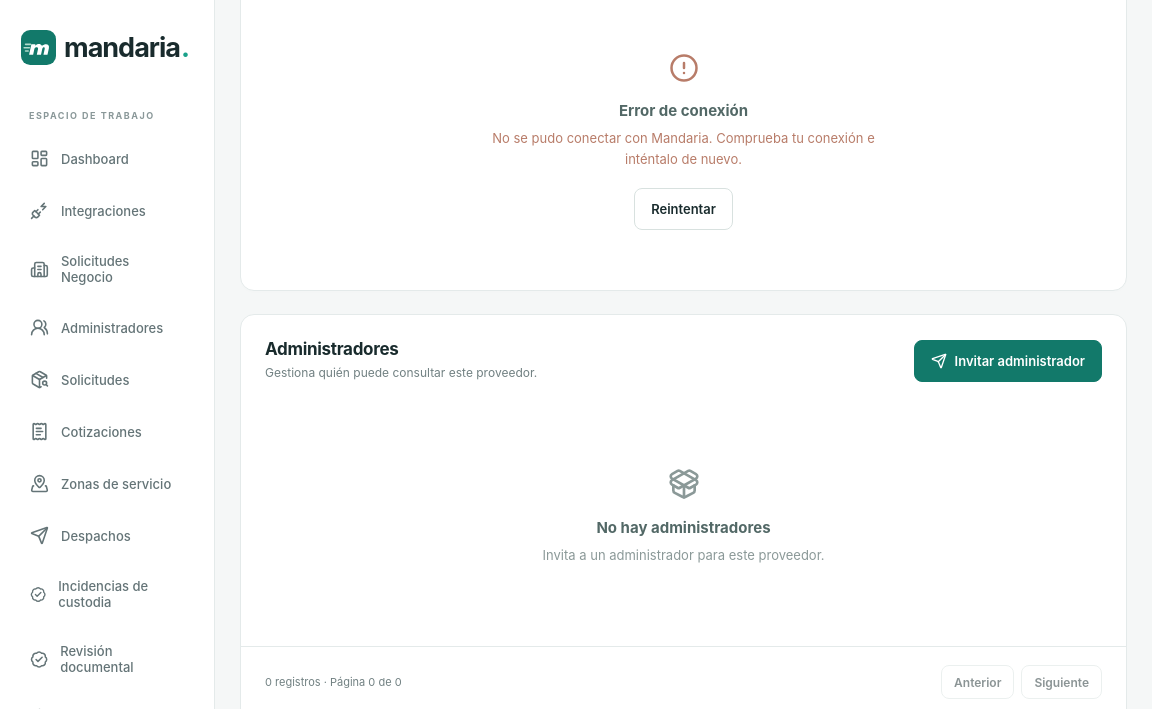
Test: SUPER_ADMIN accounts and admin invitations › shows a clear invite error for USER_DISABLED (409)
(page scrolled)
Click the button "Invitar administrador" at point(1008, 361), box [914,340,1102,382]
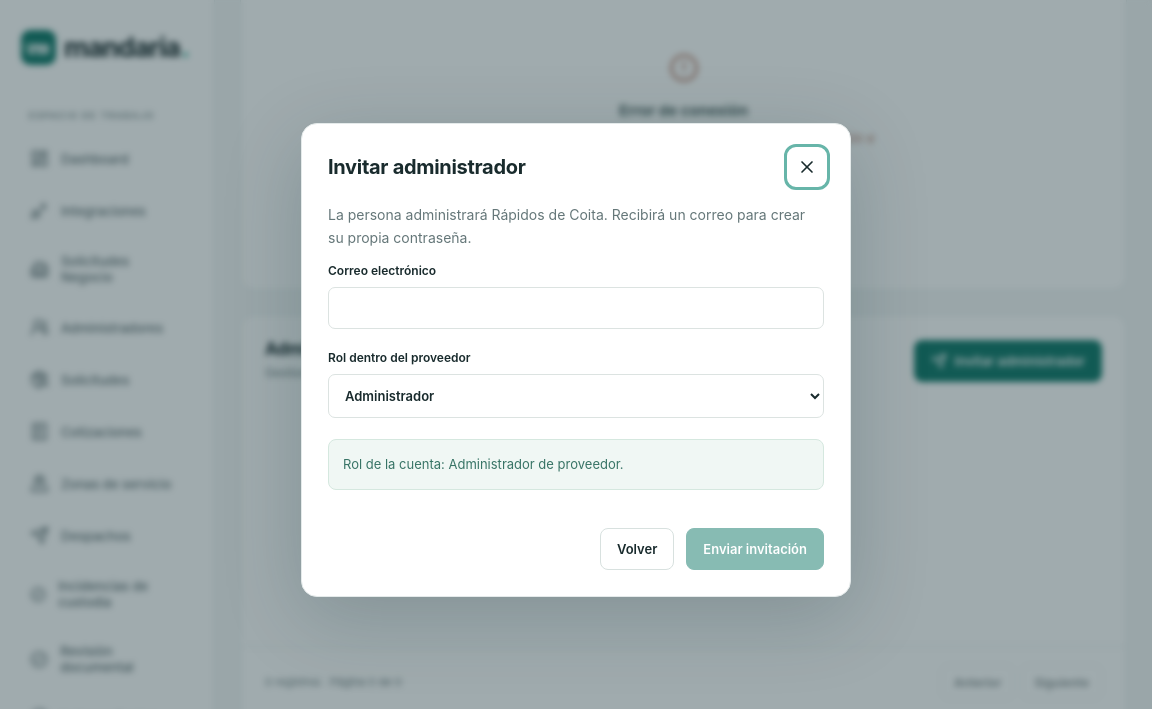
Type "ana@example.test" into the field labelled "Correo electrónico" at point(576, 308), box [328,287,824,329]
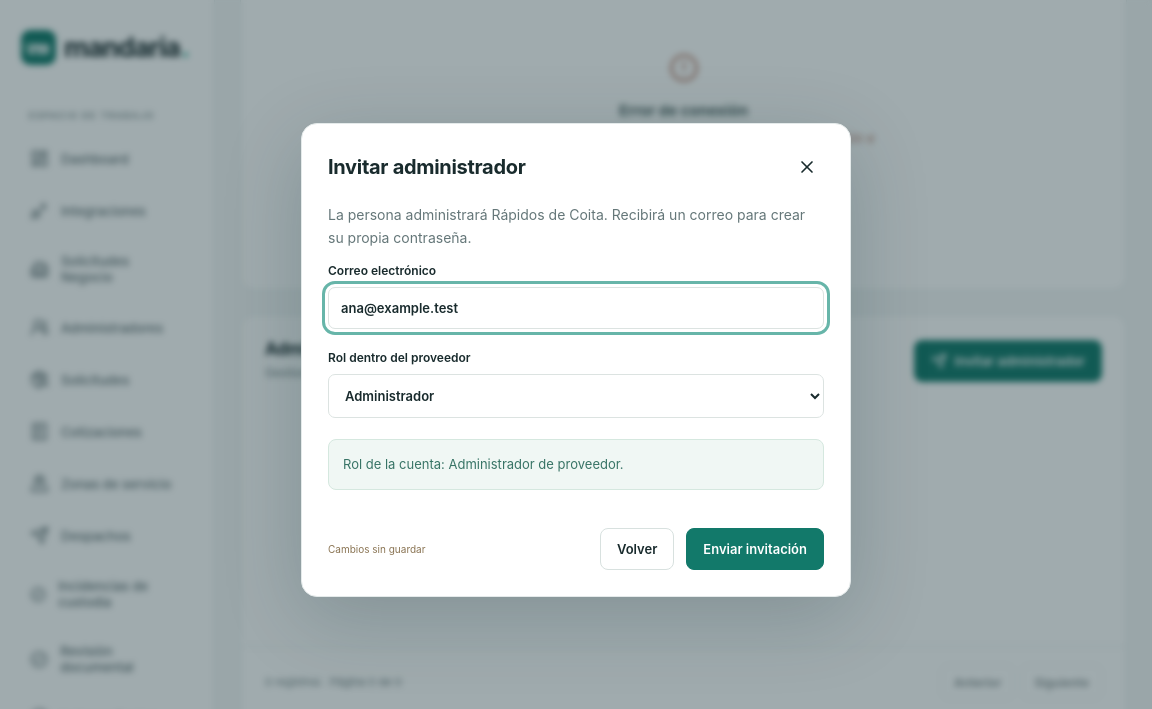
Click the button "Enviar invitación" at point(755, 549), box [686,528,824,570]
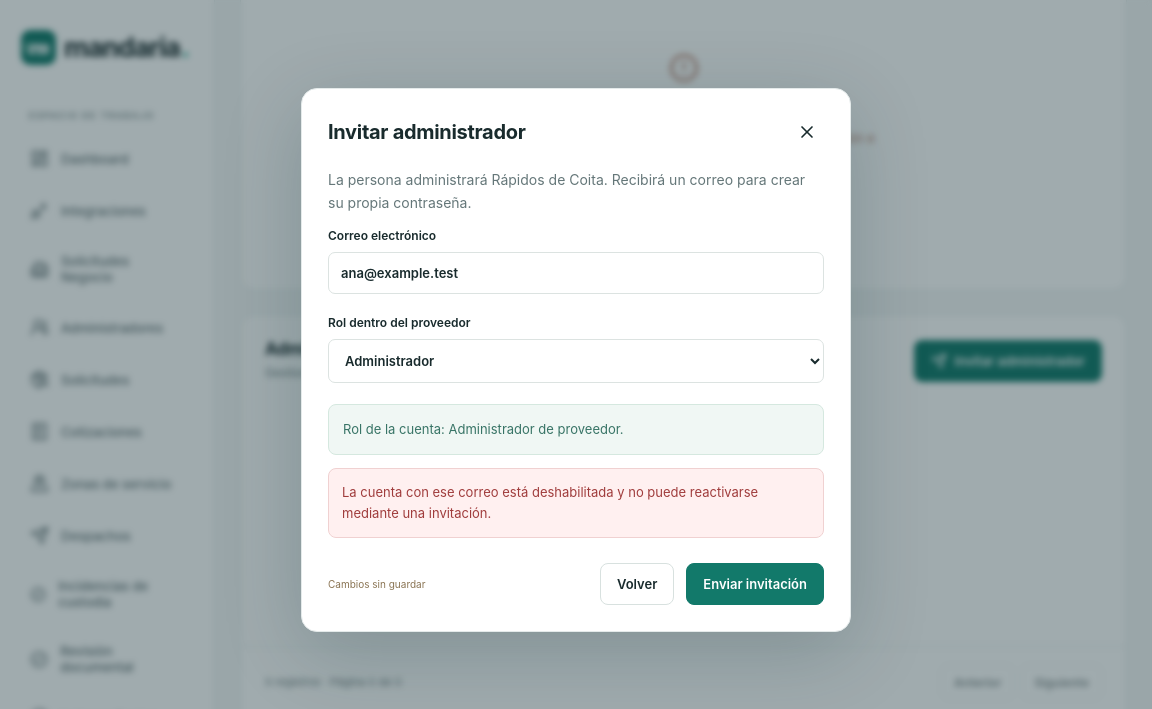
expect the message does not show "raw internal detail": met, box [328,468,824,538]
expect the message shows "deshabilitada": met, box [342,484,758,521]
